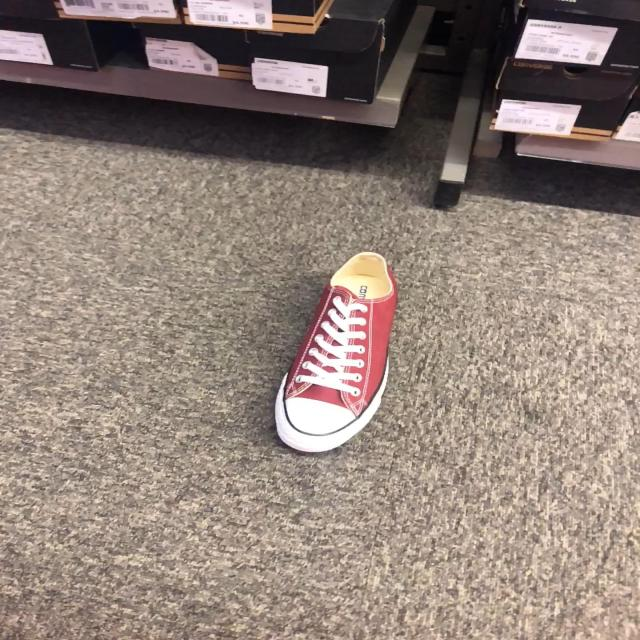shoe: (274, 252, 399, 457)
